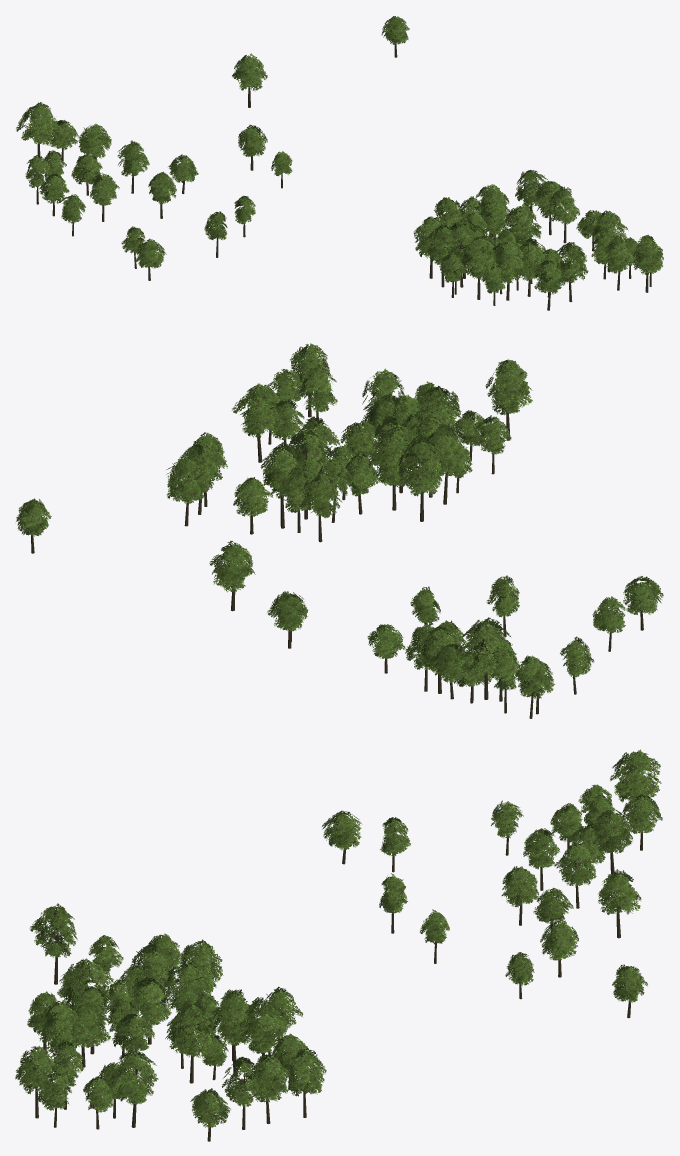
Rendered from TRB8-FOREST-CHUNK-6-1.glb.
3 views of the same model, one above another, from view 1: azimuth 30°, elevation 25°; view 2: azimuth 150°, elevation 25°; view 3: azimuth 270°, elevation 25° (orthographic). The views are drawn at different scales.
Parts seen in each view (by area): view 1: TRB8-FOREST-CHUNK-6-1; view 2: TRB8-FOREST-CHUNK-6-1; view 3: TRB8-FOREST-CHUNK-6-1.
Part boxes in pixels (box(x1,y1,x2,y2)): TRB8-FOREST-CHUNK-6-1: box(16, 16, 663, 310); TRB8-FOREST-CHUNK-6-1: box(16, 343, 663, 718); TRB8-FOREST-CHUNK-6-1: box(15, 749, 662, 1141).
Bounding box in the file's own units: 41.56 × 11.45 × 42.63.
Materials: 2 (1 with a texture image).
